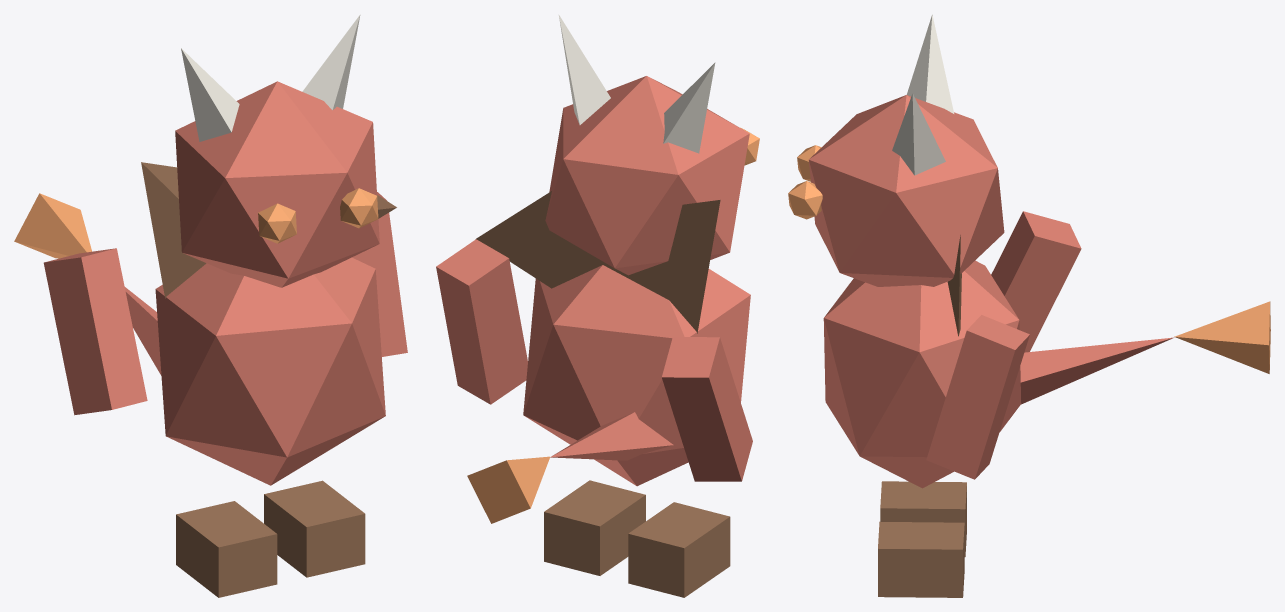
File: npcpose_imp_idle_09.glb
The picture shows the model from 3 angles, left to right: view 1: azimuth 30°, elevation 25°; view 2: azimuth 150°, elevation 25°; view 3: azimuth 270°, elevation 25°; orthographic projection. The views are drawn at different scales.
Parts seen in each view (by area): view 1: npcpose; view 2: npcpose; view 3: npcpose.
Boxes of the visible parts, x1=… form: npcpose: x1=14, y1=14, x2=407, y2=597; npcpose: x1=436, y1=14, x2=759, y2=597; npcpose: x1=788, y1=14, x2=1270, y2=597.
Bounding box in the file's own units: 0.6361 × 1.06 × 0.9063.
